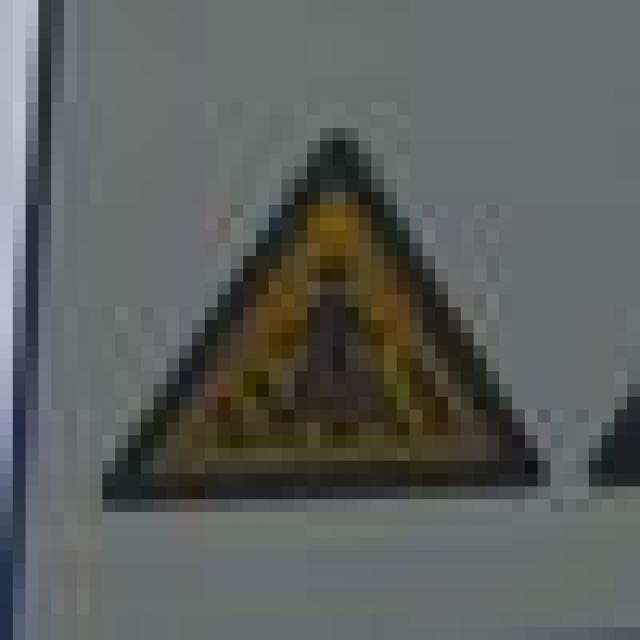pass_either_side: (77, 102, 550, 486)
